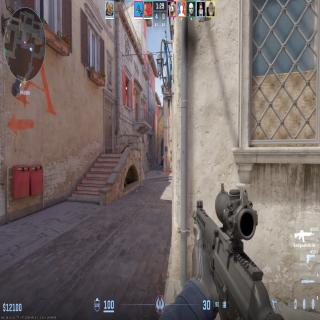T-Body: (162, 154, 164, 166)
T-Head: (162, 154, 163, 157)
